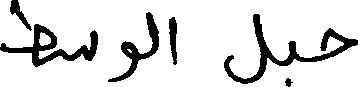X: (0, 0, 54, 71), (226, 9, 265, 86), (56, 25, 95, 65), (321, 23, 357, 65), (110, 36, 136, 86), (147, 7, 157, 62), (286, 36, 294, 86), (169, 12, 175, 69)
